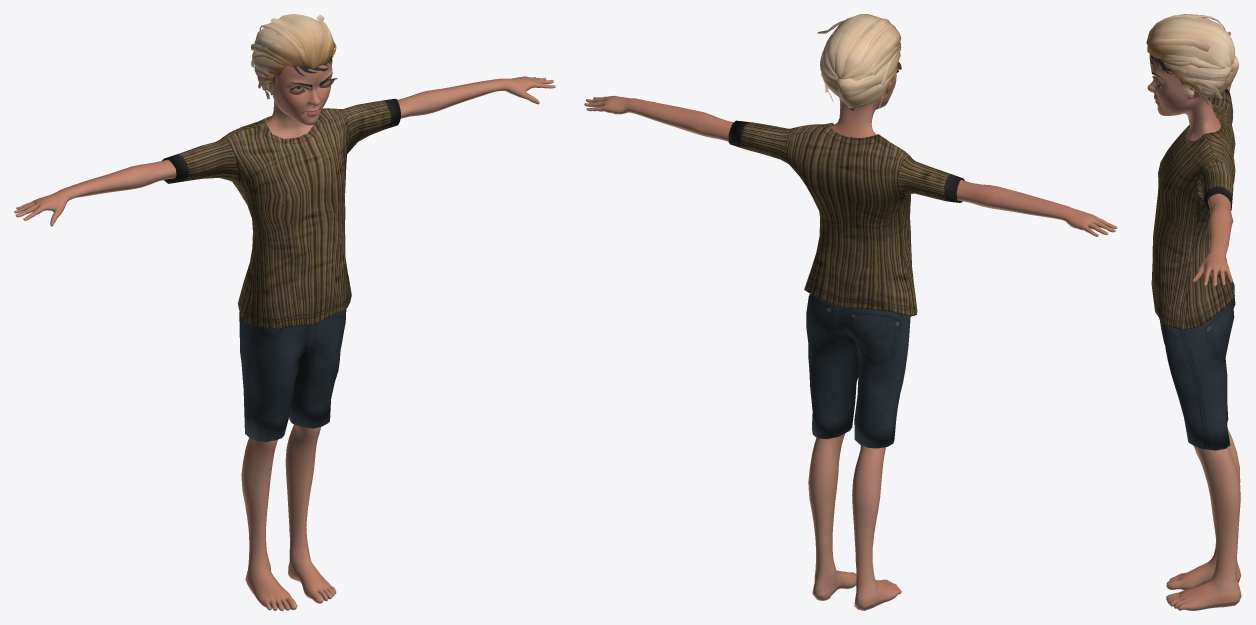
The model's file is child.obj.
3 views of the same model, side by side, from view 1: azimuth 30°, elevation 25°; view 2: azimuth 150°, elevation 25°; view 3: azimuth 270°, elevation 25° (orthographic).
Parts seen in each view (by area): view 1: Tops, Body, Bottoms, Hair; view 2: Tops, Body, Bottoms, Hair; view 3: Tops, Body, Bottoms, Hair.
Boxes of the visible parts, x1,y1,x2,y2 form: Tops: [162, 98, 400, 328]; Body: [14, 56, 555, 610]; Bottoms: [239, 309, 346, 441]; Hair: [251, 14, 336, 99]; Tops: [728, 120, 964, 316]; Body: [584, 65, 1117, 610]; Bottoms: [806, 293, 910, 448]; Hair: [817, 14, 901, 108]; Tops: [1151, 89, 1235, 329]; Body: [1147, 31, 1241, 610]; Bottoms: [1159, 297, 1235, 450]; Hair: [1146, 14, 1239, 104].
Size of the model in its own units: 163 by 169 by 25.15.
Materials: 4 (4 with a texture image).
